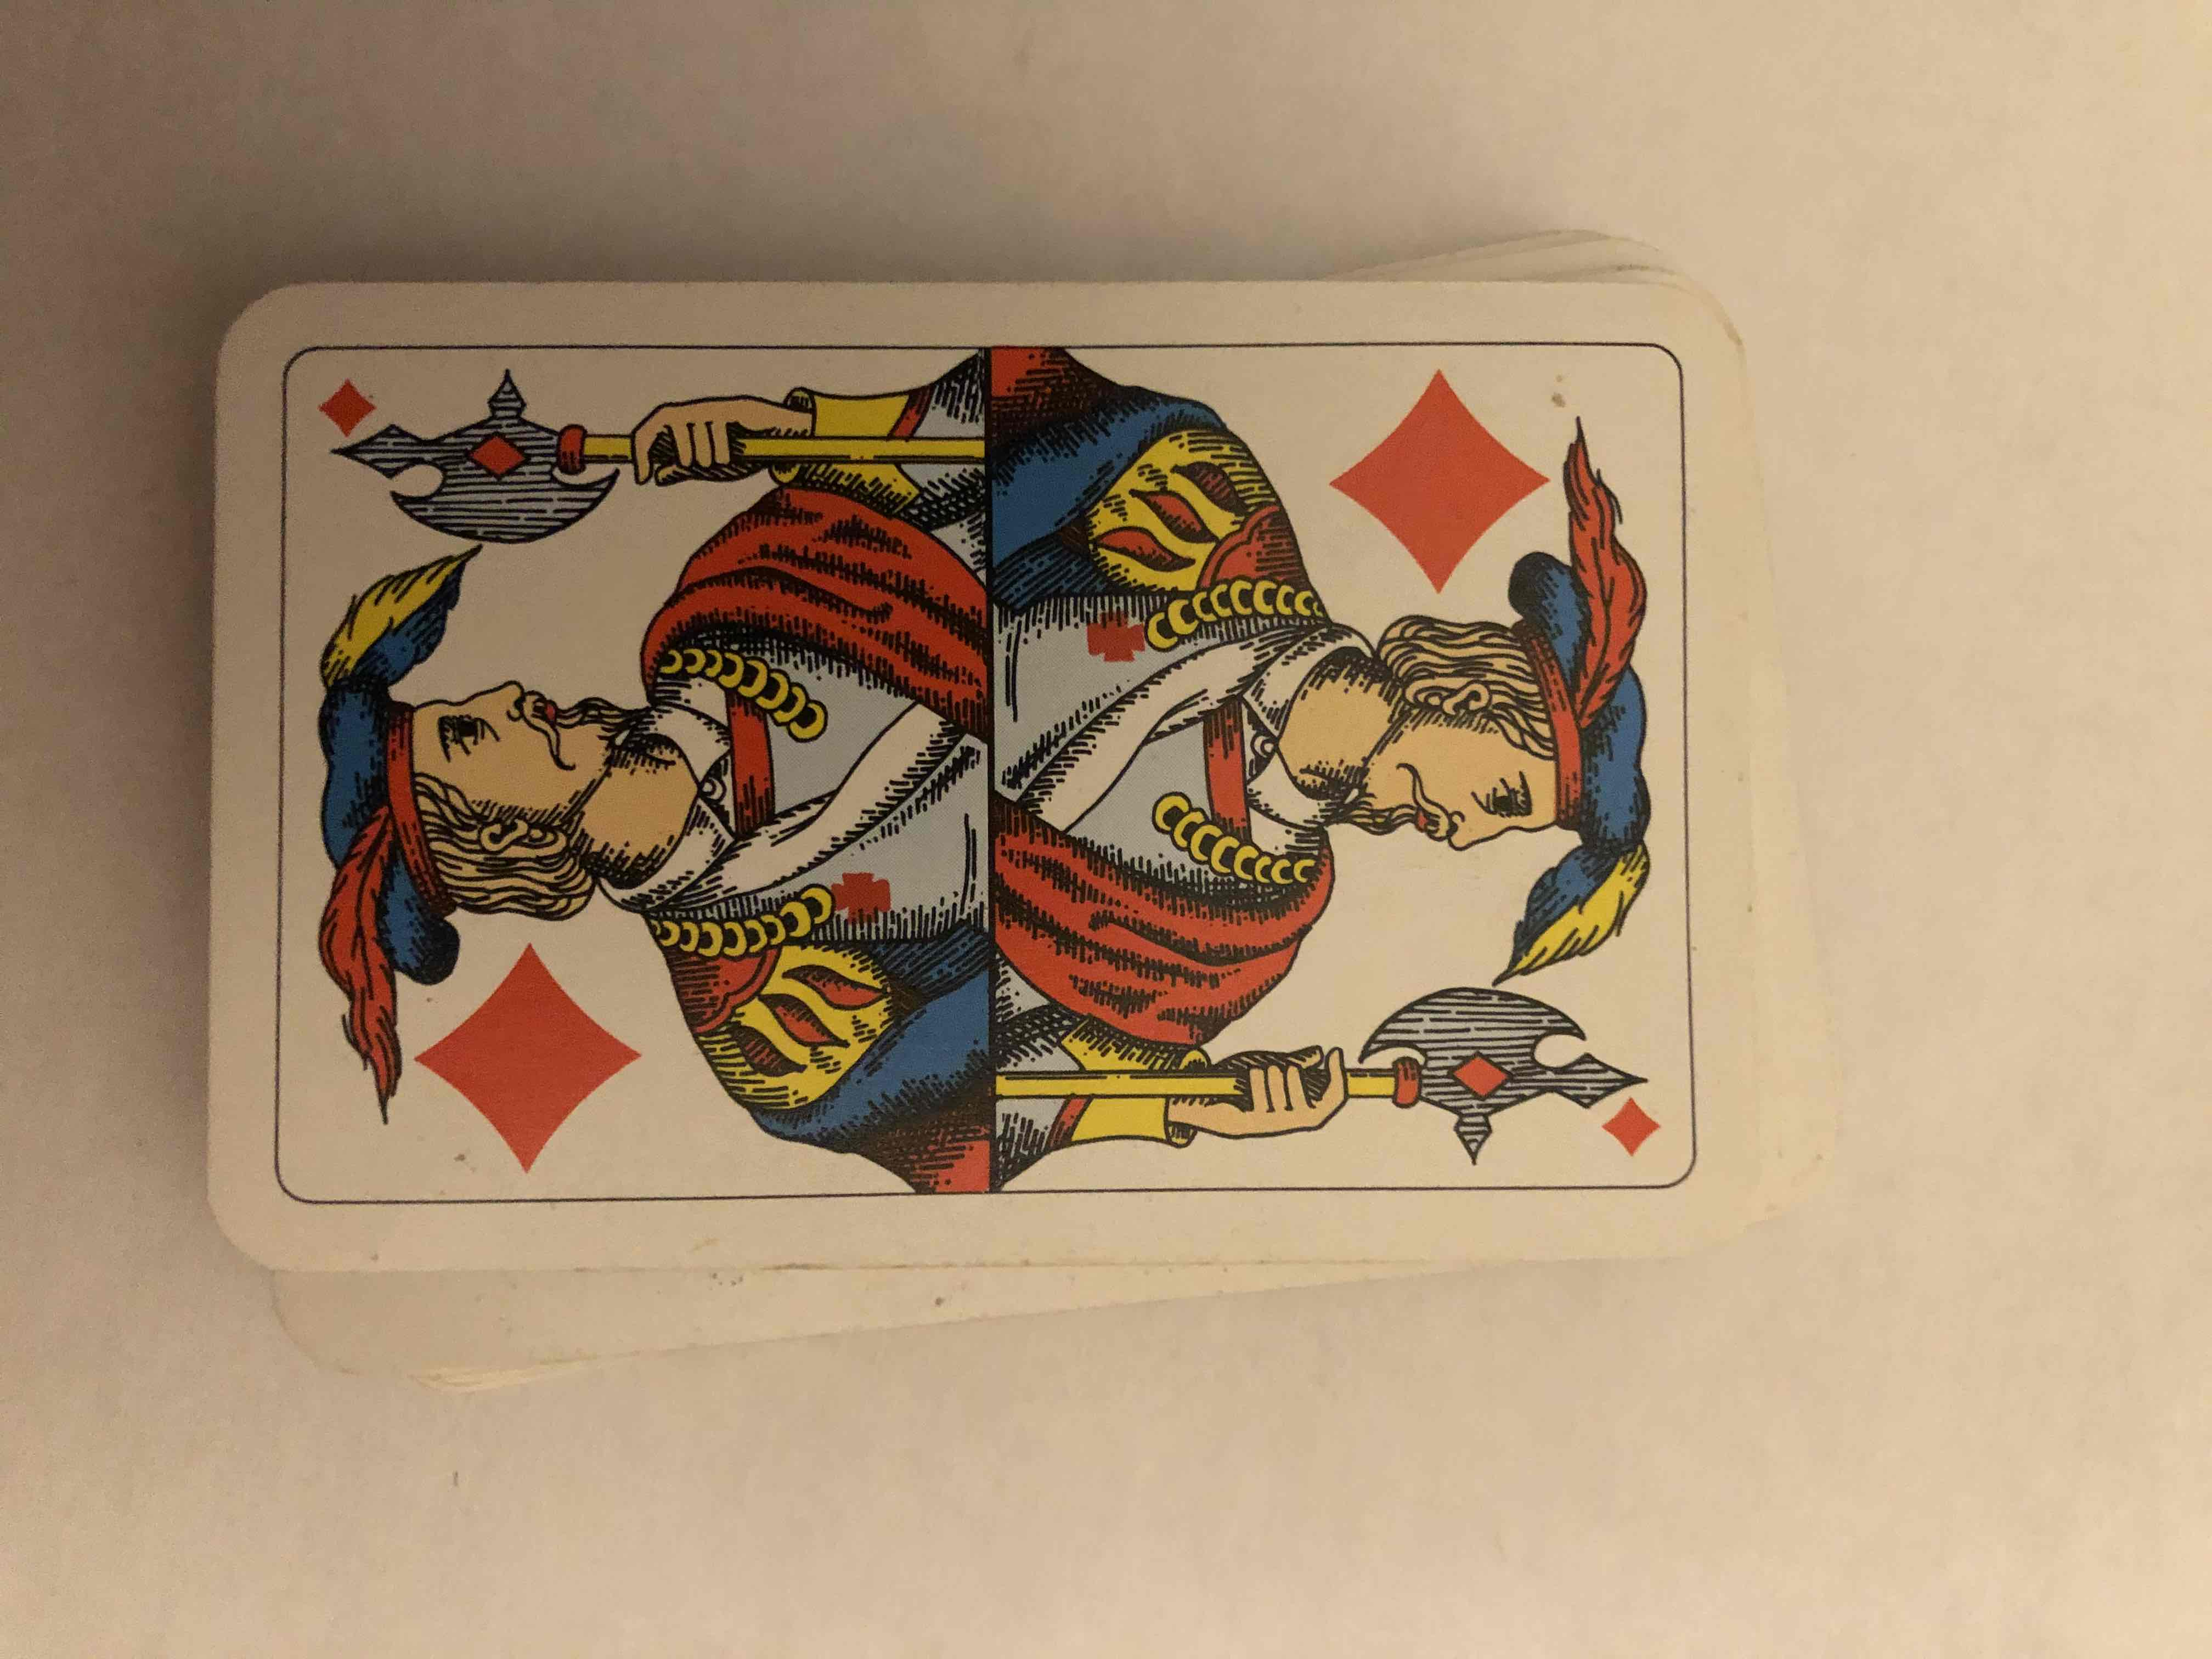diamondJack: (221, 254, 1803, 1262)
